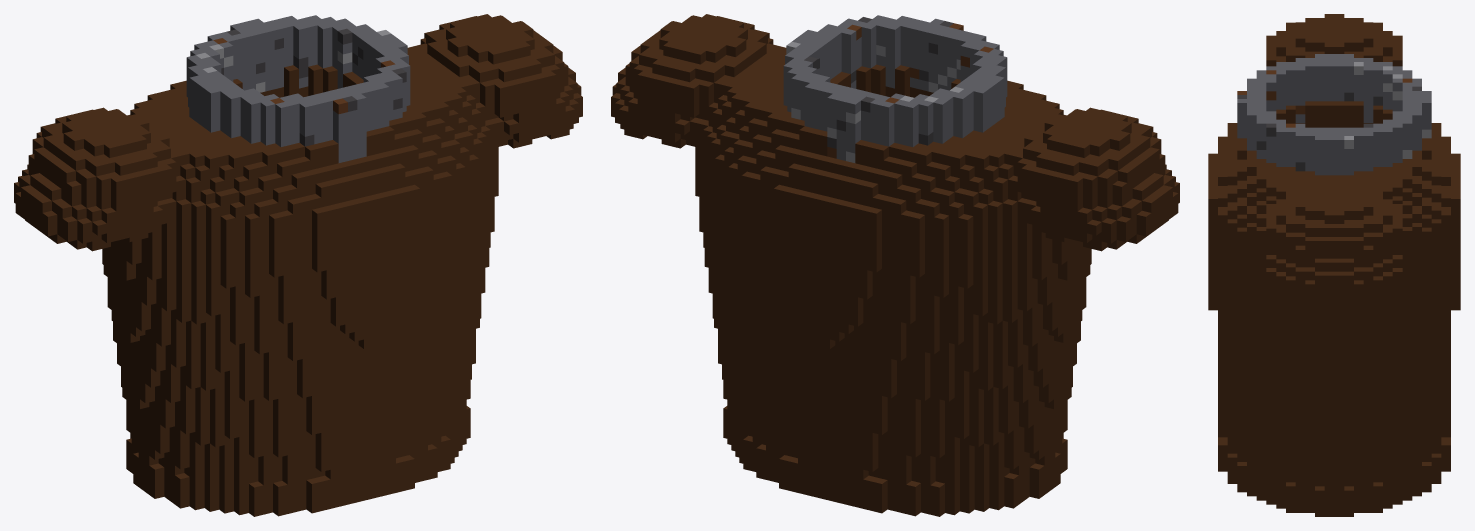
The model's file is leather_jerkin.glb.
The picture shows the model from 3 angles, left to right: view 1: azimuth 30°, elevation 25°; view 2: azimuth 150°, elevation 25°; view 3: azimuth 270°, elevation 25°; orthographic projection. The views are drawn at different scales.
Parts seen in each view (by area): view 1: leather_jerkin; view 2: leather_jerkin; view 3: leather_jerkin.
Boxes of the visible parts, x1=… form: leather_jerkin: x1=14, y1=14, x2=582, y2=516; leather_jerkin: x1=611, y1=14, x2=1179, y2=516; leather_jerkin: x1=1208, y1=14, x2=1460, y2=516.
Bounding box in the file's own units: 0.684 × 0.48 × 0.312.
